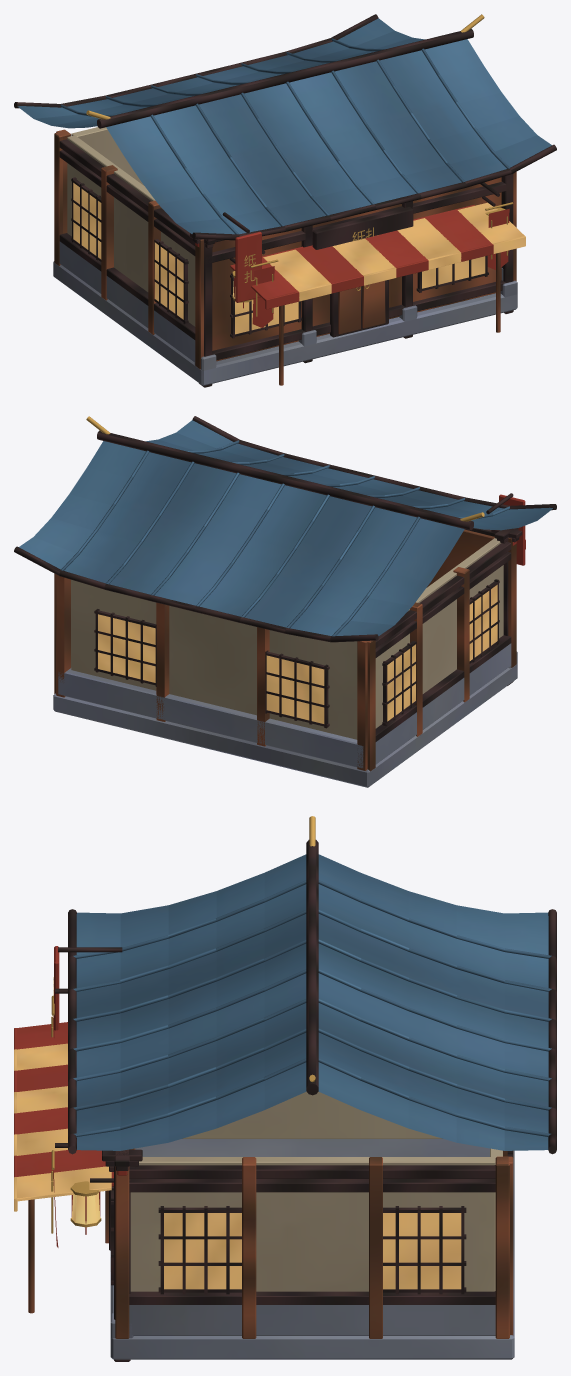
The model's file is model-shop-05.glb.
3 views of the same model, one above another, from view 1: azimuth 30°, elevation 25°; view 2: azimuth 150°, elevation 25°; view 3: azimuth 270°, elevation 25° (orthographic). The views are drawn at different scales.
Visible parts, largest first — view 1: model-shop-05; view 2: model-shop-05; view 3: model-shop-05.
Boxes of the visible parts, x1,y1,x2,y2 form: model-shop-05: (14, 14, 556, 387); model-shop-05: (14, 416, 556, 787); model-shop-05: (14, 816, 556, 1361).
Size of the model in its own units: 10.55 by 5.94 by 9.28.
9 materials, 9 textured.
